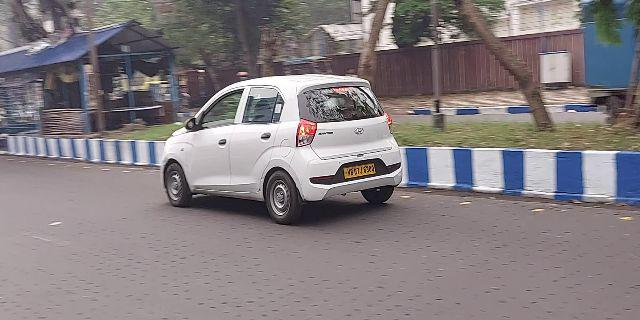Car: (157, 79, 407, 217)
